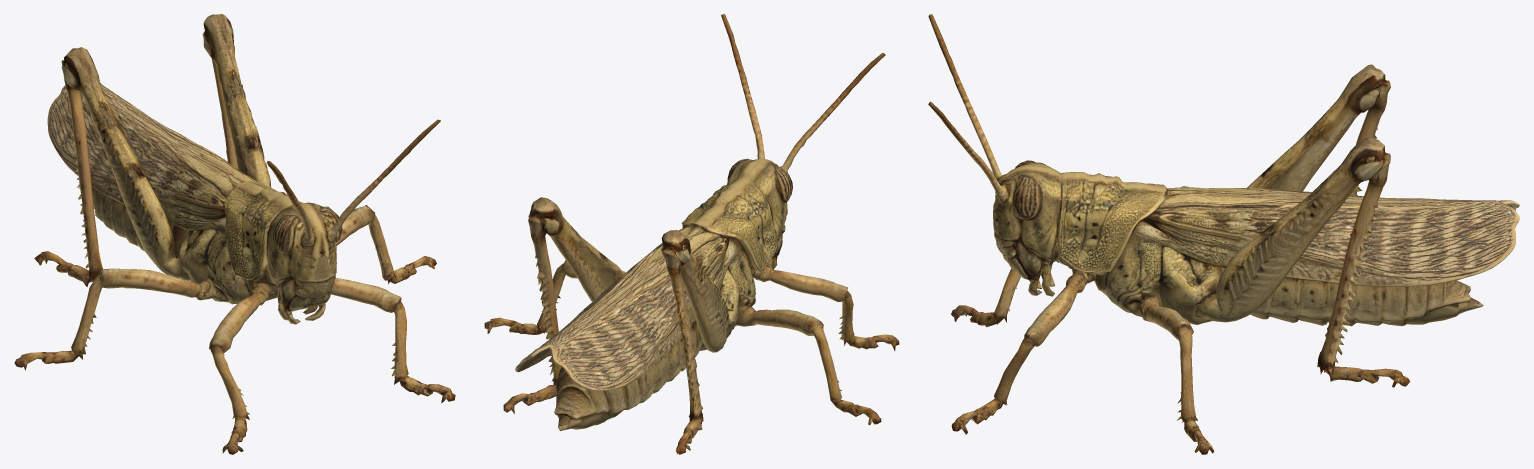
The model's file is locust.glb.
3 views of the same model, side by side, from view 1: azimuth 30°, elevation 25°; view 2: azimuth 150°, elevation 25°; view 3: azimuth 270°, elevation 25° (orthographic). The views are drawn at different scales.
Parts seen in each view (by area): view 1: tripo_node_9e76fa37-a382-42c8-b574-f93d8ece582c; view 2: tripo_node_9e76fa37-a382-42c8-b574-f93d8ece582c; view 3: tripo_node_9e76fa37-a382-42c8-b574-f93d8ece582c.
Part boxes in pixels (x1=…): tripo_node_9e76fa37-a382-42c8-b574-f93d8ece582c: x1=14, y1=14, x2=455, y2=454; tripo_node_9e76fa37-a382-42c8-b574-f93d8ece582c: x1=484, y1=14, x2=899, y2=454; tripo_node_9e76fa37-a382-42c8-b574-f93d8ece582c: x1=928, y1=14, x2=1519, y2=454.
Bounding box in the file's own units: 0.8746 × 0.5934 × 1.
Materials: 1 (1 with a texture image).
